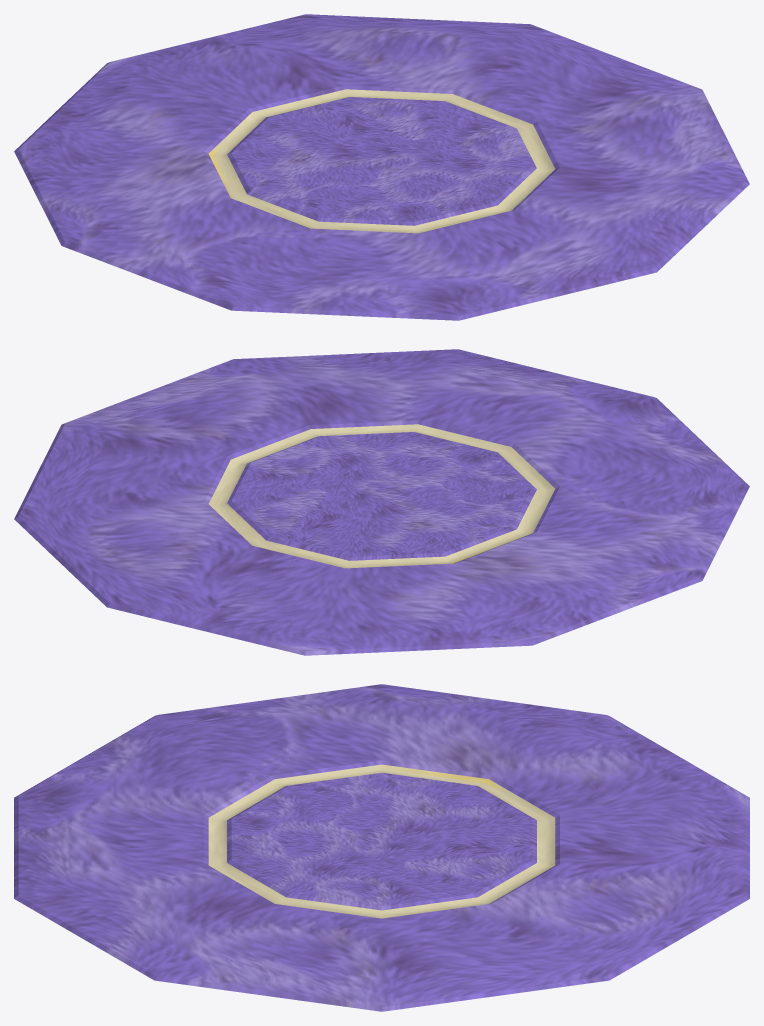
File: Circular_Carpet_08.FBX
3 renders of one model, top to bottom at view 1: azimuth 30°, elevation 25°; view 2: azimuth 150°, elevation 25°; view 3: azimuth 270°, elevation 25°, orthographic. The views are drawn at different scales.
Parts seen in each view (by area): view 1: Circular_Carpet; view 2: Circular_Carpet; view 3: Circular_Carpet.
Part boxes in pixels (bbox=[...]): Circular_Carpet: bbox=[14, 14, 749, 320]; Circular_Carpet: bbox=[14, 349, 749, 655]; Circular_Carpet: bbox=[14, 684, 749, 1011].
Bounding box in the file's own units: 316 × 4.05 × 300.
